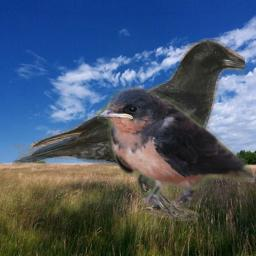Crow: (12, 38, 245, 221)
Swallow: (97, 86, 255, 207)
